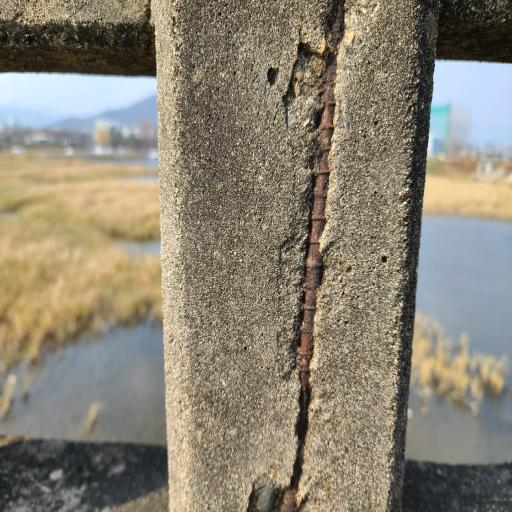exposed_rebar: (280, 2, 344, 510)
